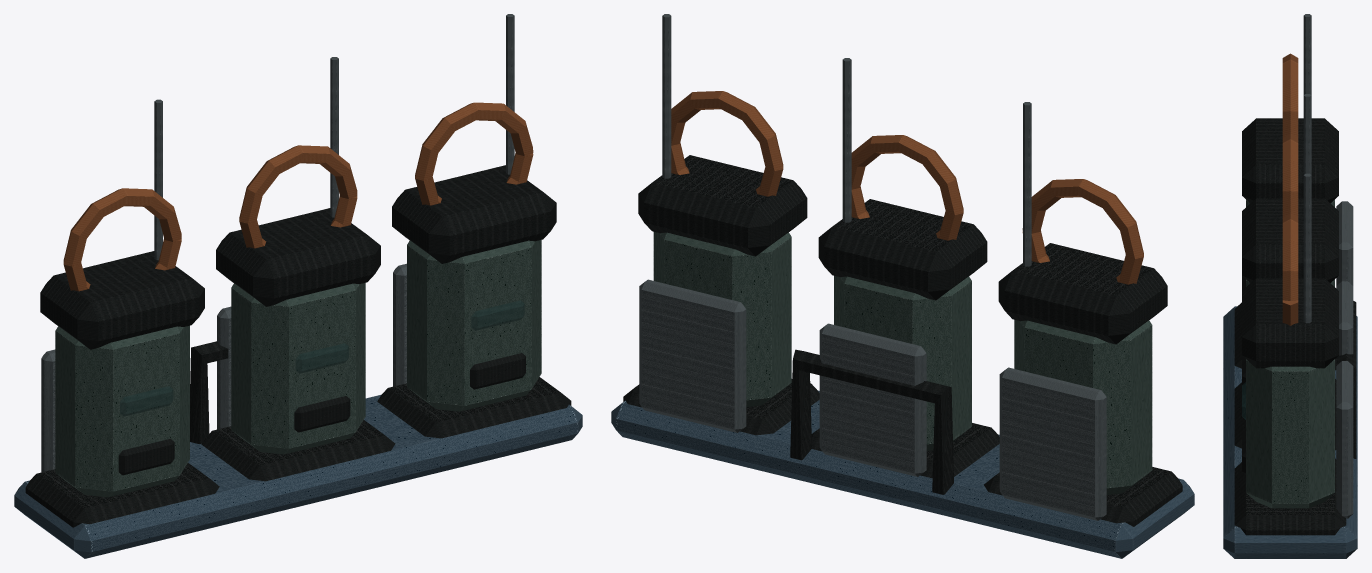
File: blender_emf_array_2.glb
3 views of the same model, side by side, from view 1: azimuth 30°, elevation 25°; view 2: azimuth 150°, elevation 25°; view 3: azimuth 270°, elevation 25° (orthographic). The views are drawn at different scales.
Visible parts, largest first — view 1: blender_emf_array_2; view 2: blender_emf_array_2; view 3: blender_emf_array_2.
Boxes of the visible parts, bbox=[...] form: blender_emf_array_2: bbox=[14, 14, 582, 558]; blender_emf_array_2: bbox=[611, 14, 1194, 558]; blender_emf_array_2: bbox=[1223, 14, 1357, 558].
Bounding box in the file's own units: 0.191 × 0.144 × 0.047.
6 materials, 6 textured.
